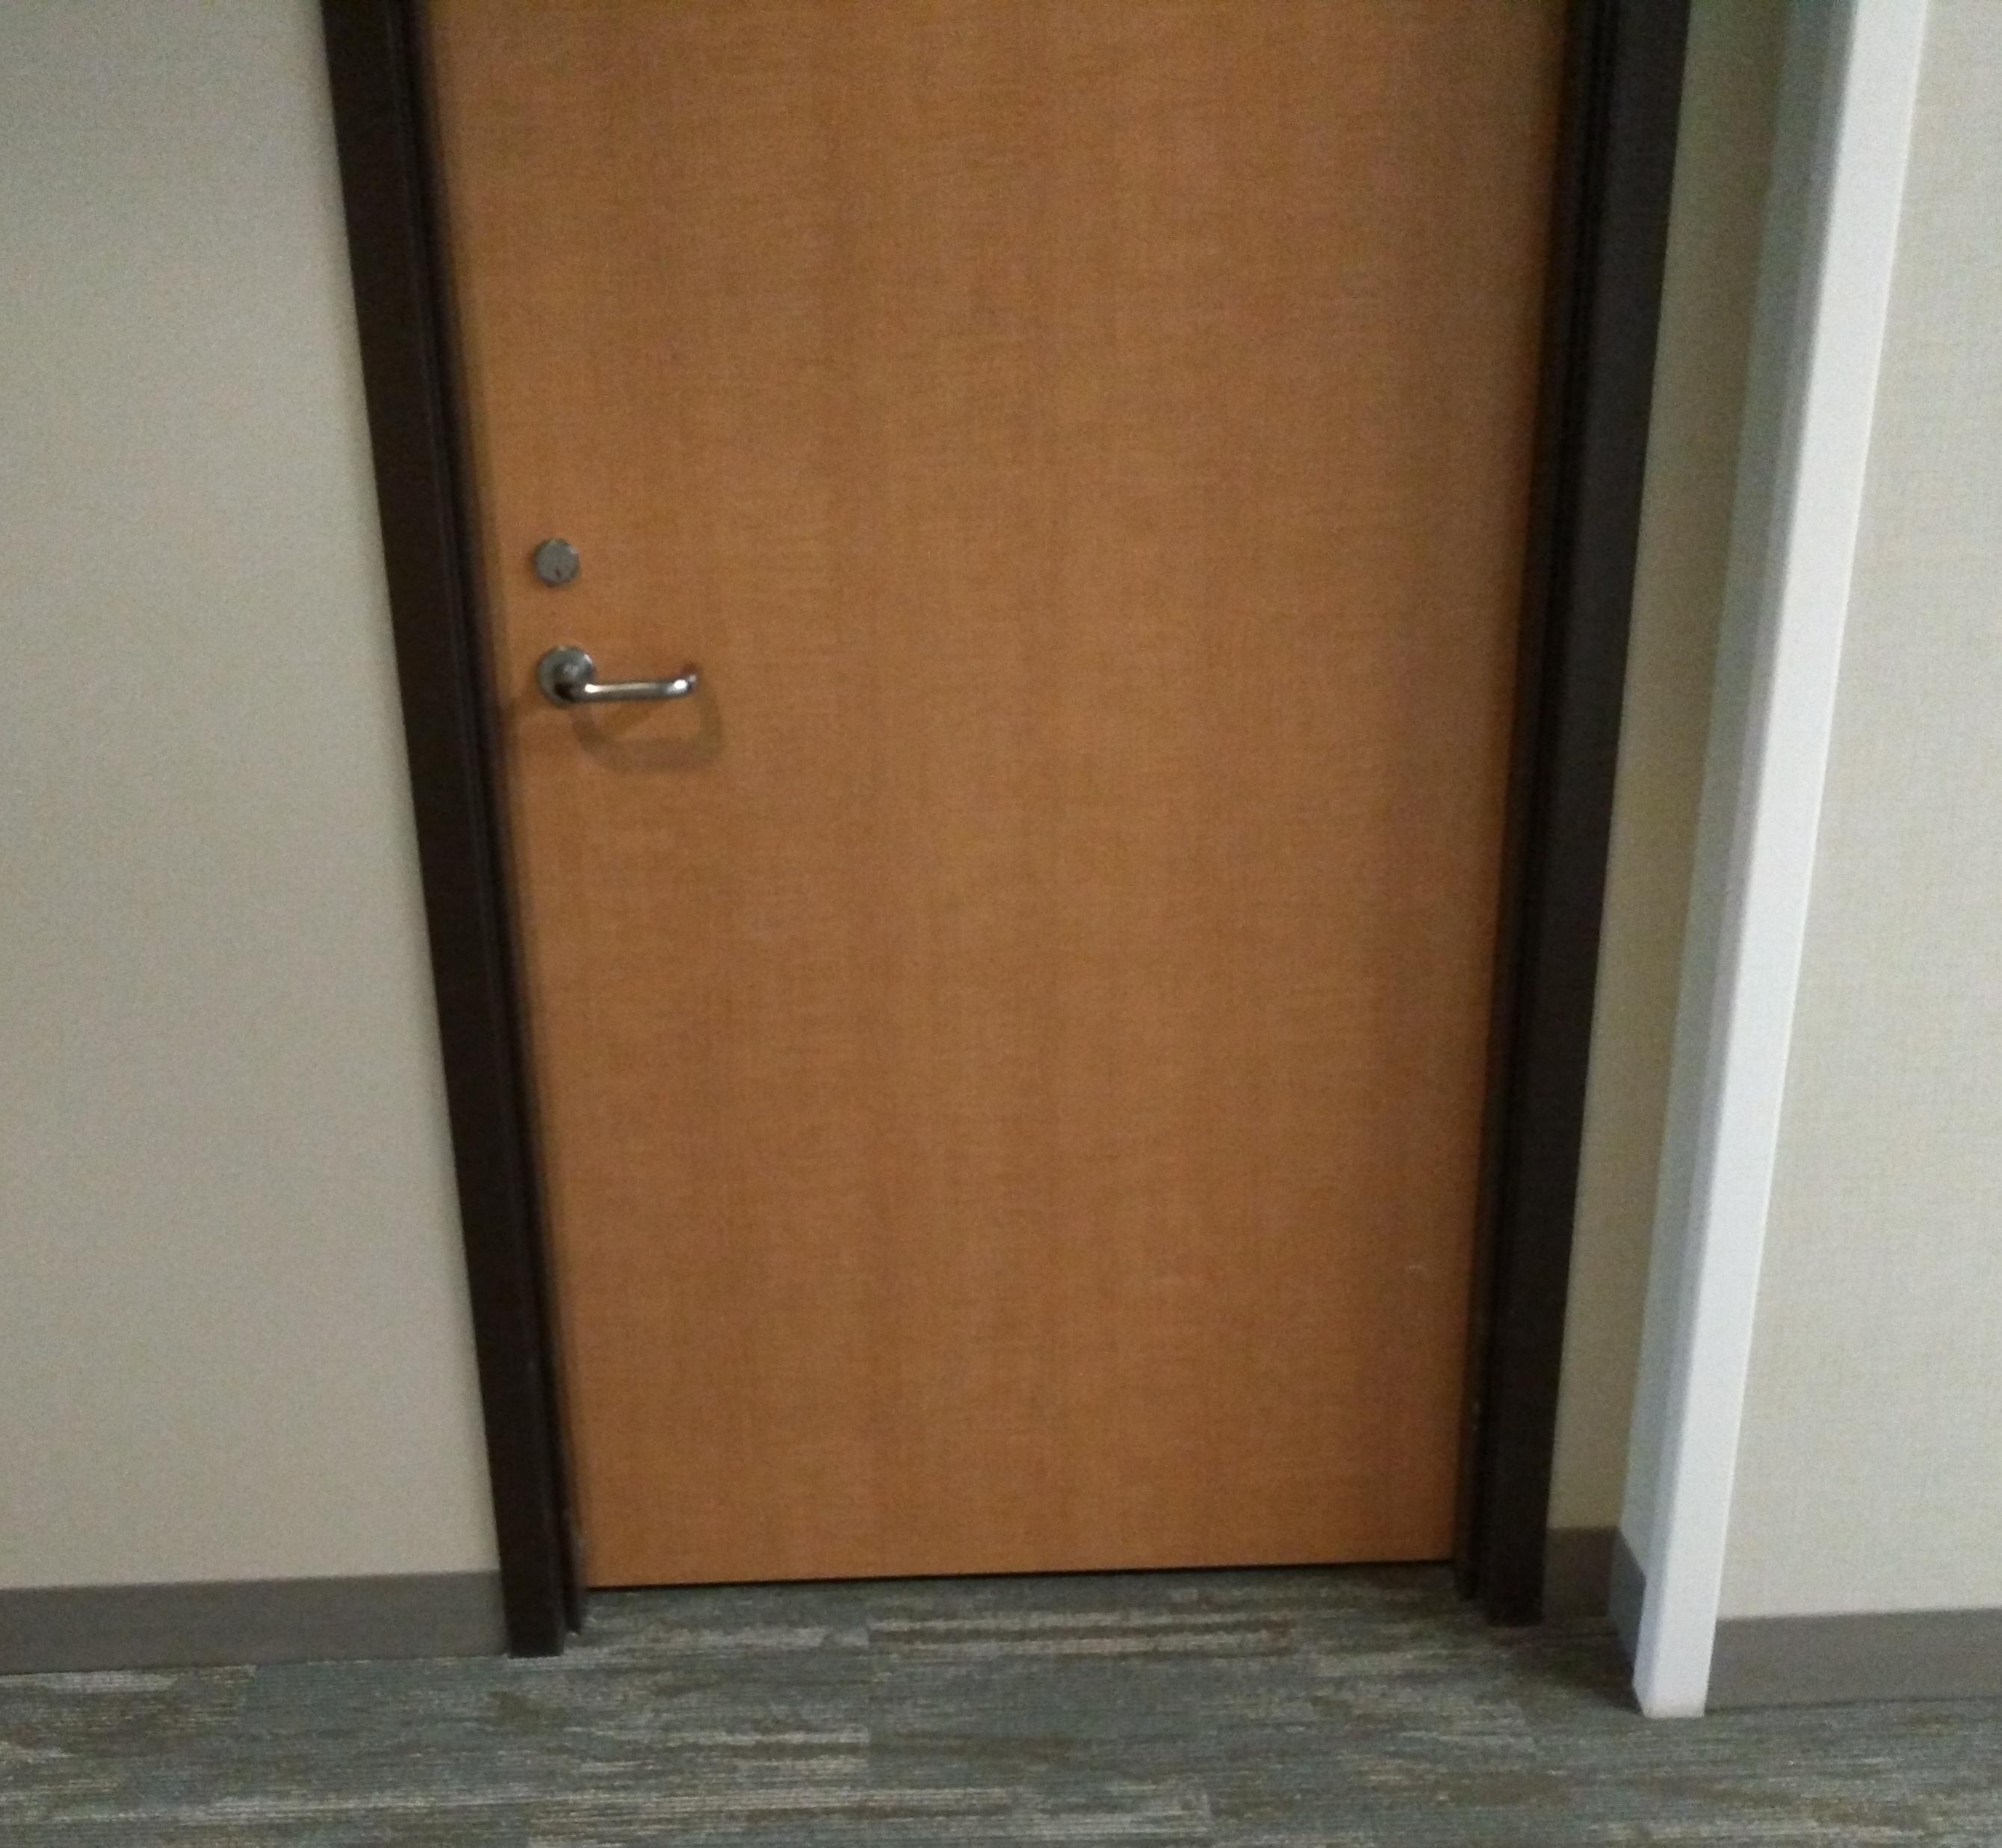door: (363, 0, 1529, 1607)
